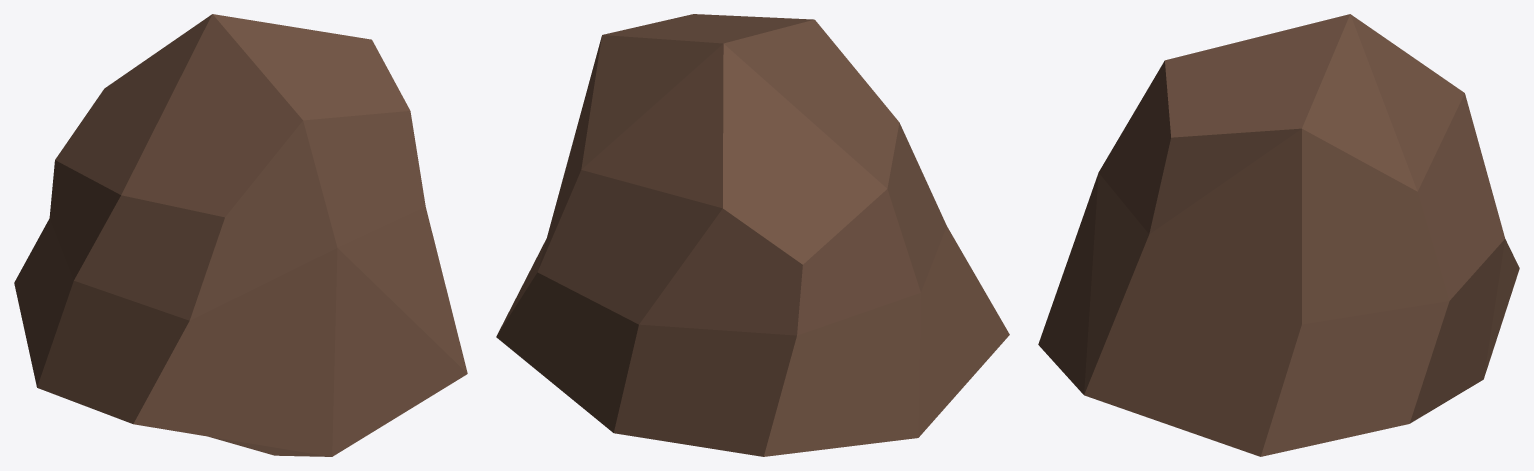
The model's file is small_rock2.glb.
3 views of the same model, side by side, from view 1: azimuth 30°, elevation 25°; view 2: azimuth 150°, elevation 25°; view 3: azimuth 270°, elevation 25° (orthographic). The views are drawn at different scales.
Parts seen in each view (by area): view 1: small_rock2; view 2: small_rock2; view 3: small_rock2.
Part boxes in pixels (bbox=[...]): small_rock2: bbox=[14, 14, 467, 456]; small_rock2: bbox=[496, 14, 1009, 456]; small_rock2: bbox=[1038, 14, 1519, 456].
Size of the model in its own units: 0.9431 by 0.9814 by 1.01.
